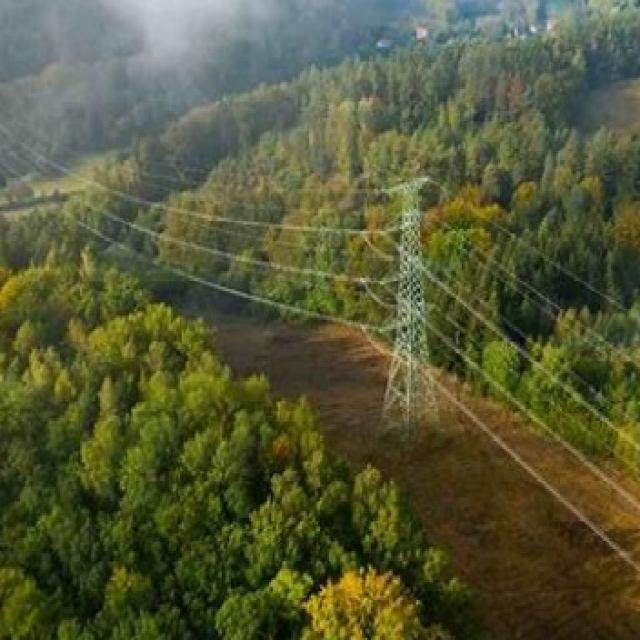utility poles: (365, 143, 462, 443)
